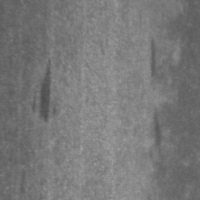inclusion: (34, 53, 59, 129), (147, 101, 170, 170), (143, 32, 163, 84)
